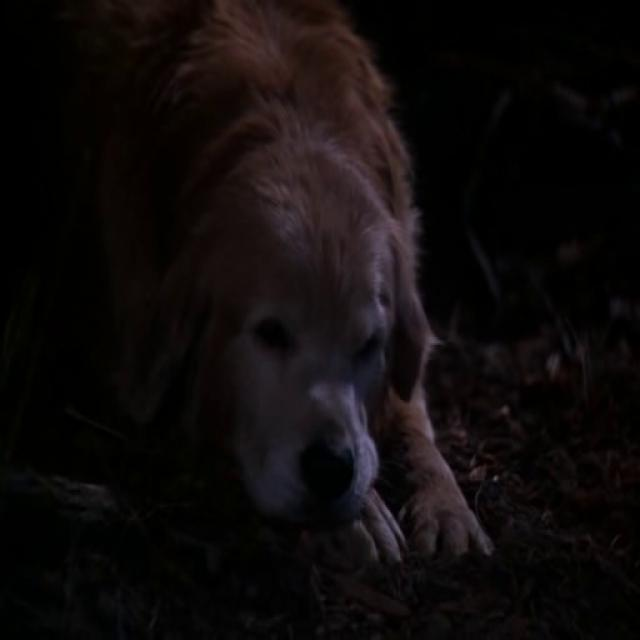dog: (126, 17, 497, 620)
